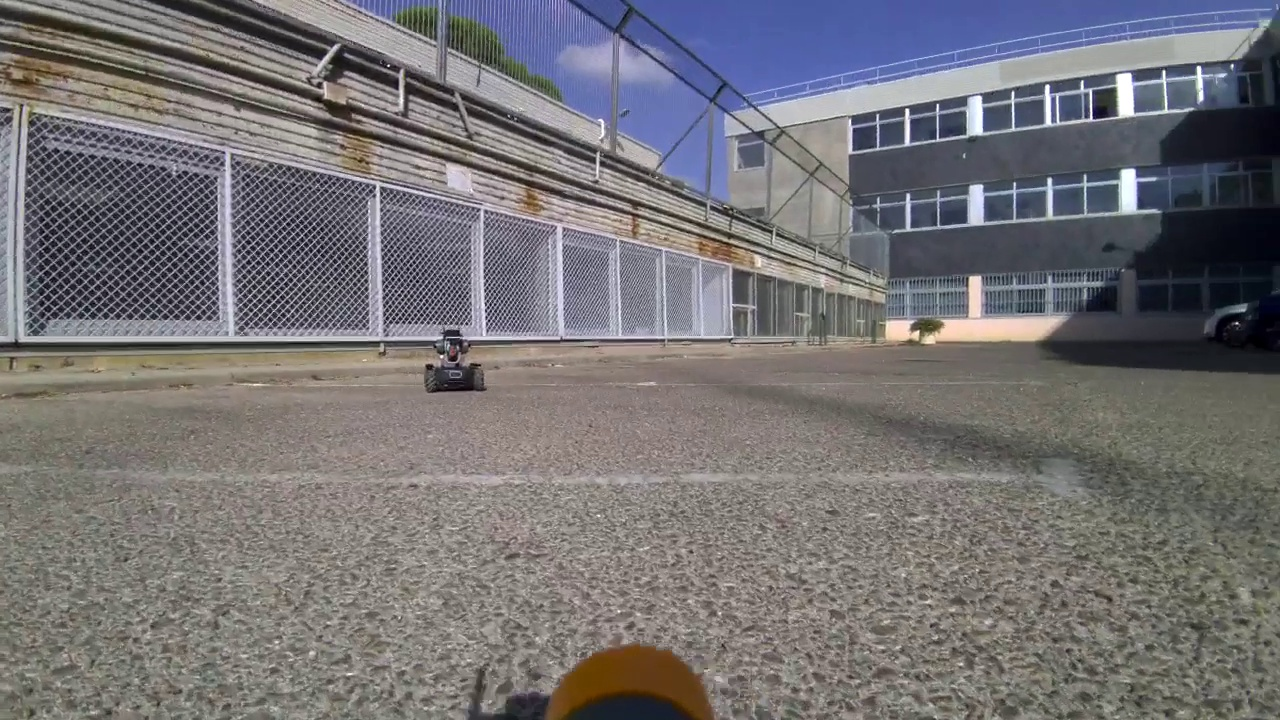robot: (419, 325, 487, 392)
